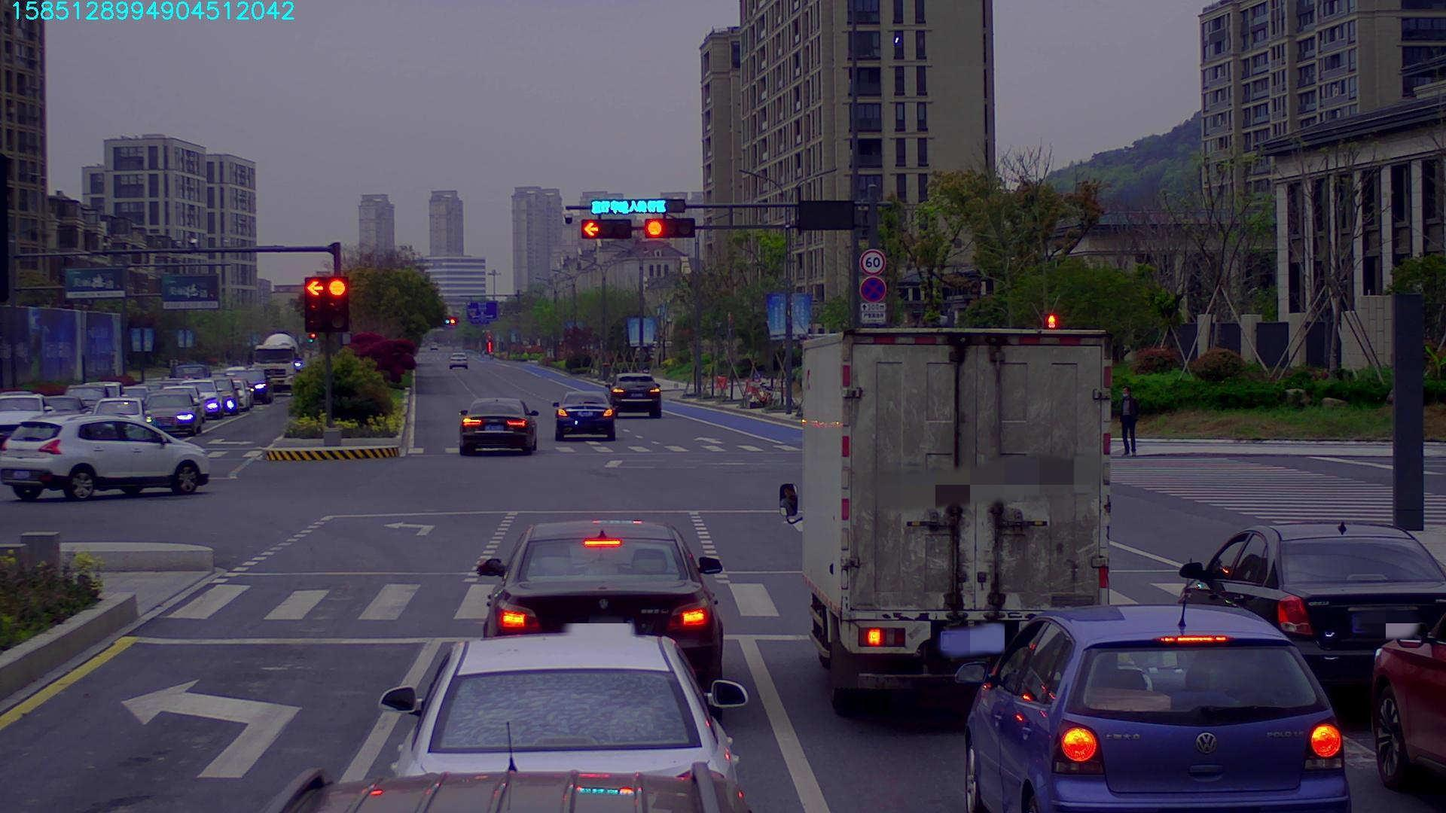red: (642, 219, 695, 244), (582, 220, 627, 242)
wait_on: (590, 196, 686, 219)
